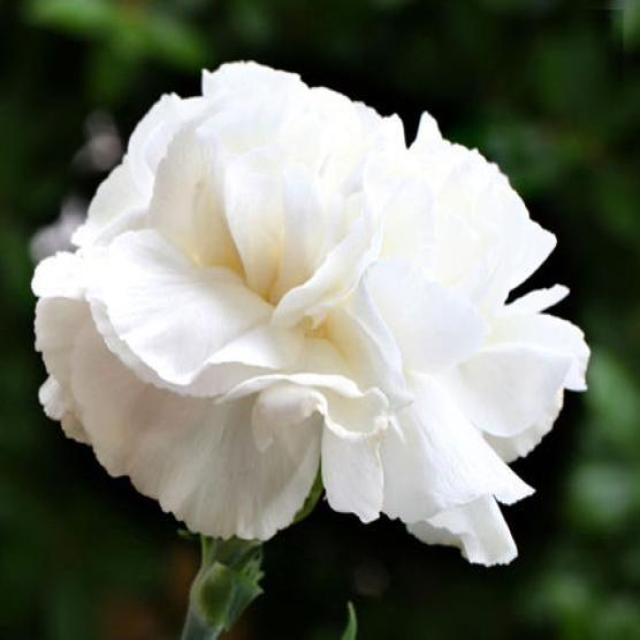carnation: (36, 65, 565, 581)
